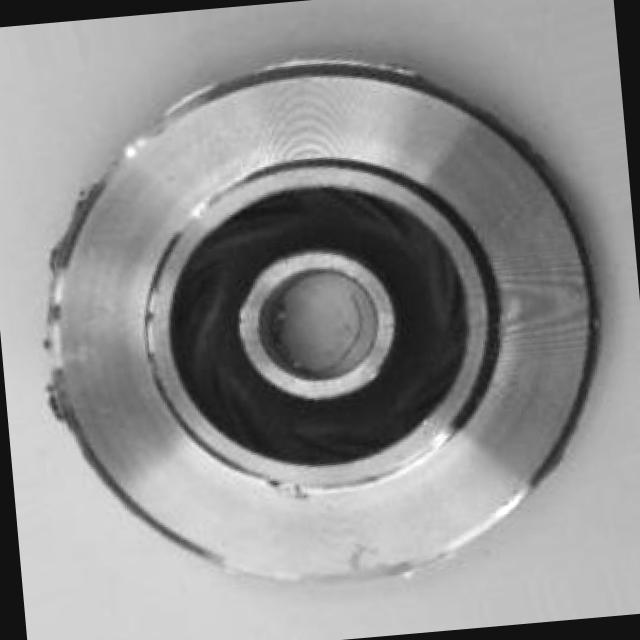Defect: (23, 317, 74, 403)
